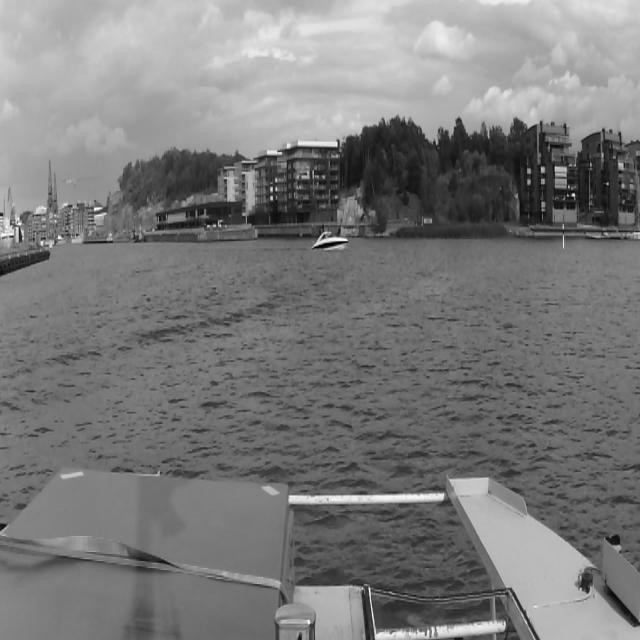buoy: (561, 222, 565, 250)
ship: (311, 226, 349, 253), (135, 223, 147, 244)
